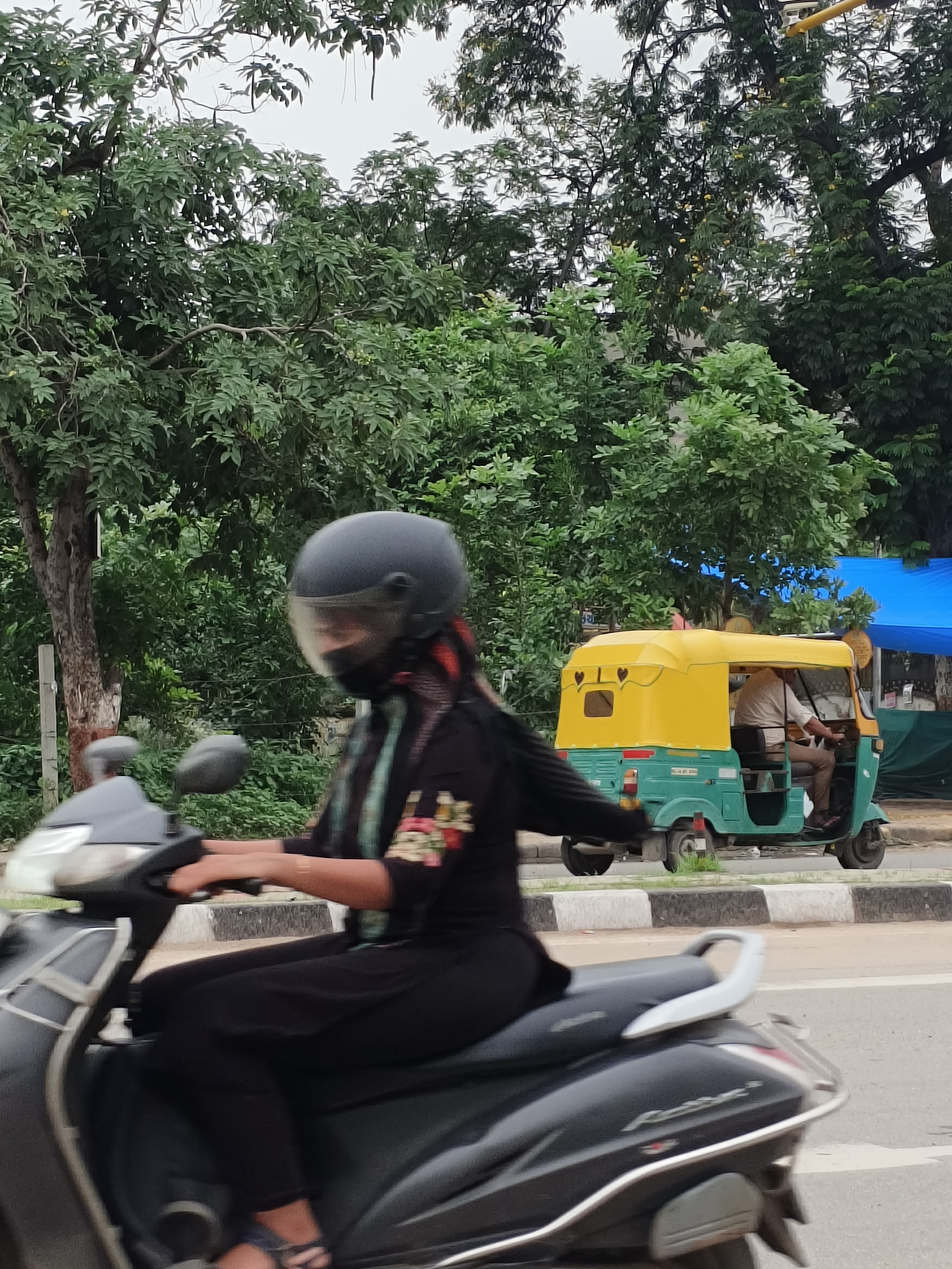BikeWithRider: (2, 495, 865, 1269)
Helmet: (266, 497, 491, 706)
